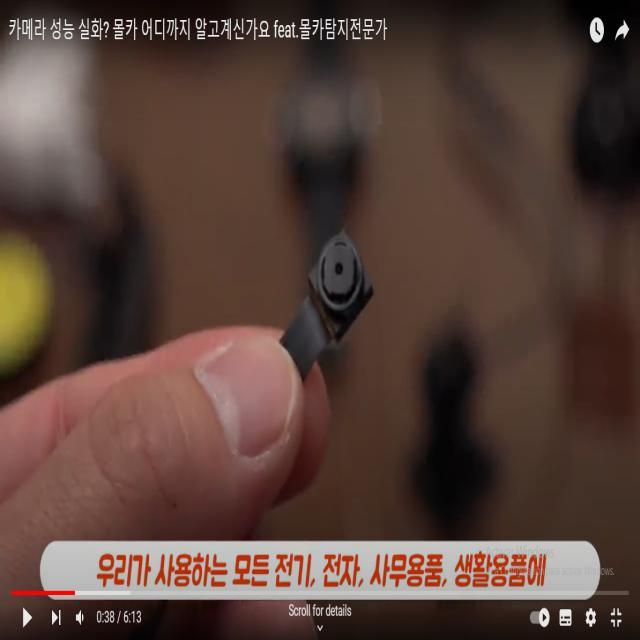hidden camera: (332, 258, 344, 277)
